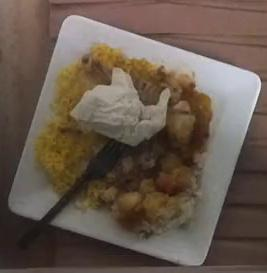potato: (111, 101, 212, 238)
rice: (35, 63, 98, 193), (87, 44, 164, 91)
